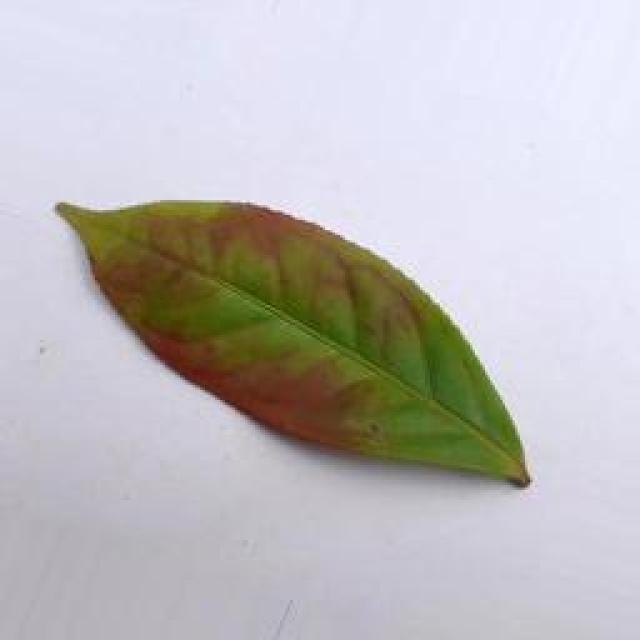Red Leaf Spot: (45, 195, 535, 489)
